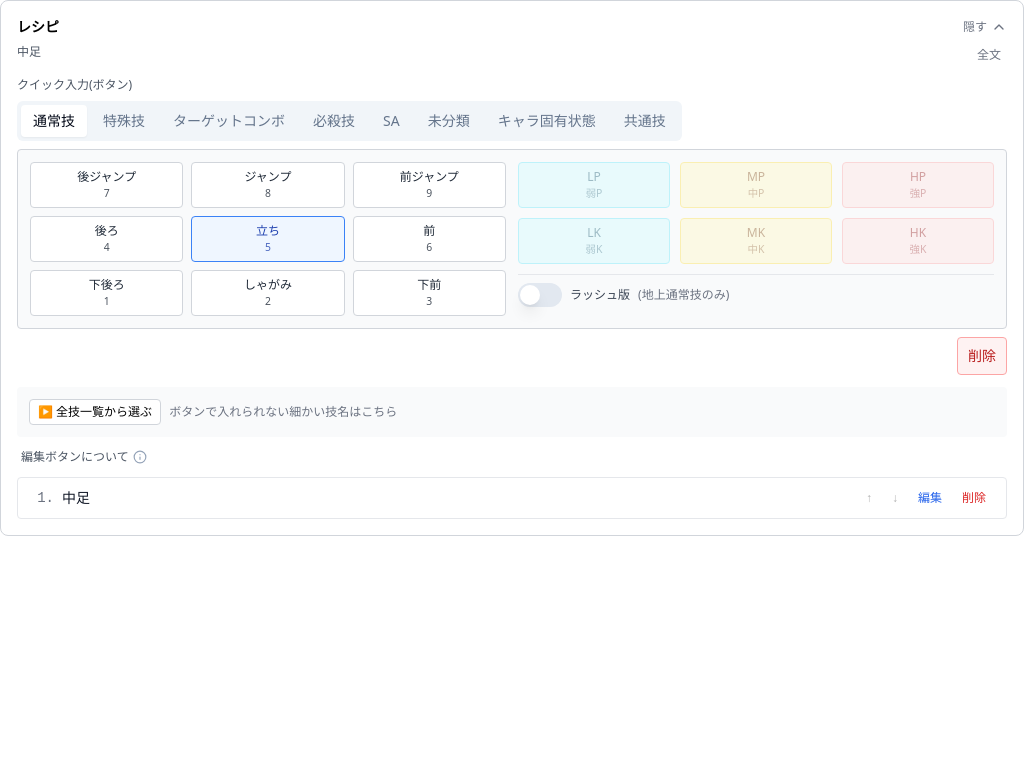
it: RecipeBuilder レシピサマリ/折りたたみ(M15-05 追補・一目で分かる欄) › 見出しクリックでレシピ節を折りたためるが、サマリは常時残る
The width and height of the screenshot is (1024, 768).
Check: the button with test id "recipe-pulldown-toggle" is shown, box [29,399,161,425]
Click the button "レシピ 隠す": (38, 26) [17,17,1007,37]
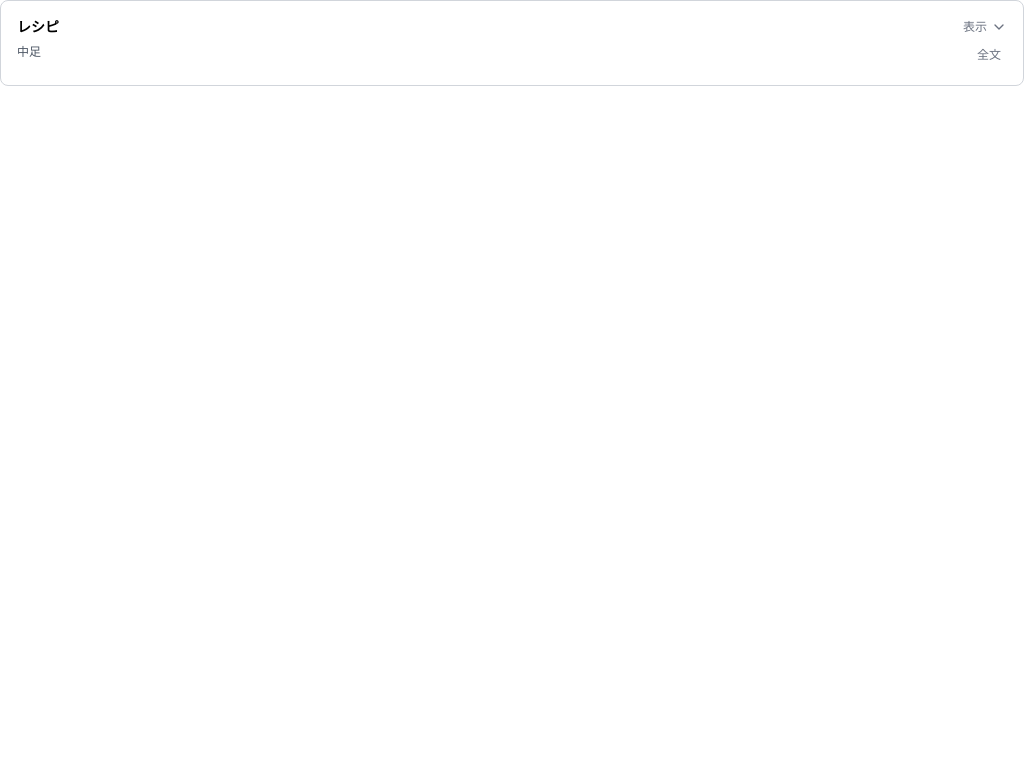
Check: the text "中足" is shown, box [17,46,41,60]
Check: the button with test id "recipe-pulldown-toggle" is gone
